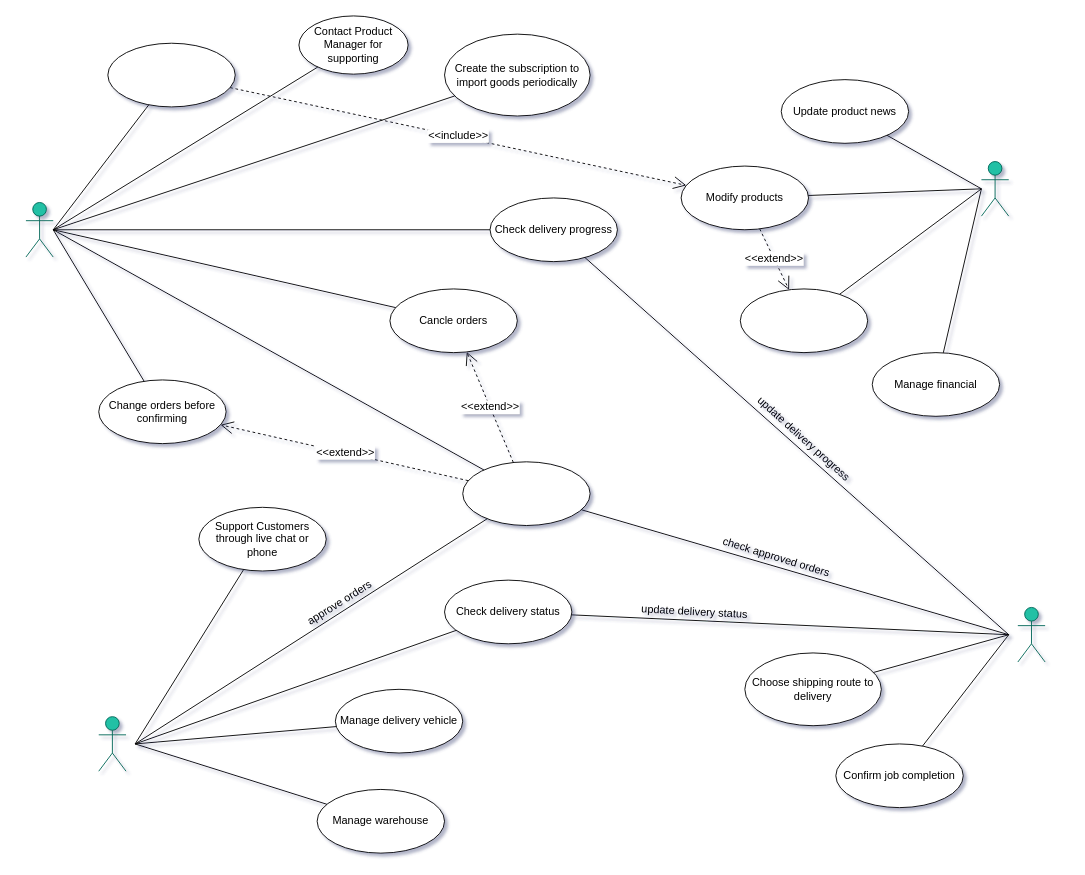
This 1085x875 diagram has some shape labels left out. Each missing label, with the centre of its shape:
"Administrator" belongs at point 995,188.
"Create orders" belongs at point 526,493.
"Customer" belongs at point 39,229.
"Delivery Staff" belongs at point 1031,634.
"Generate promotions for products" belongs at point 803,320.
"Manager" belongs at point 112,743.
"Search products" belongs at point 171,74.
